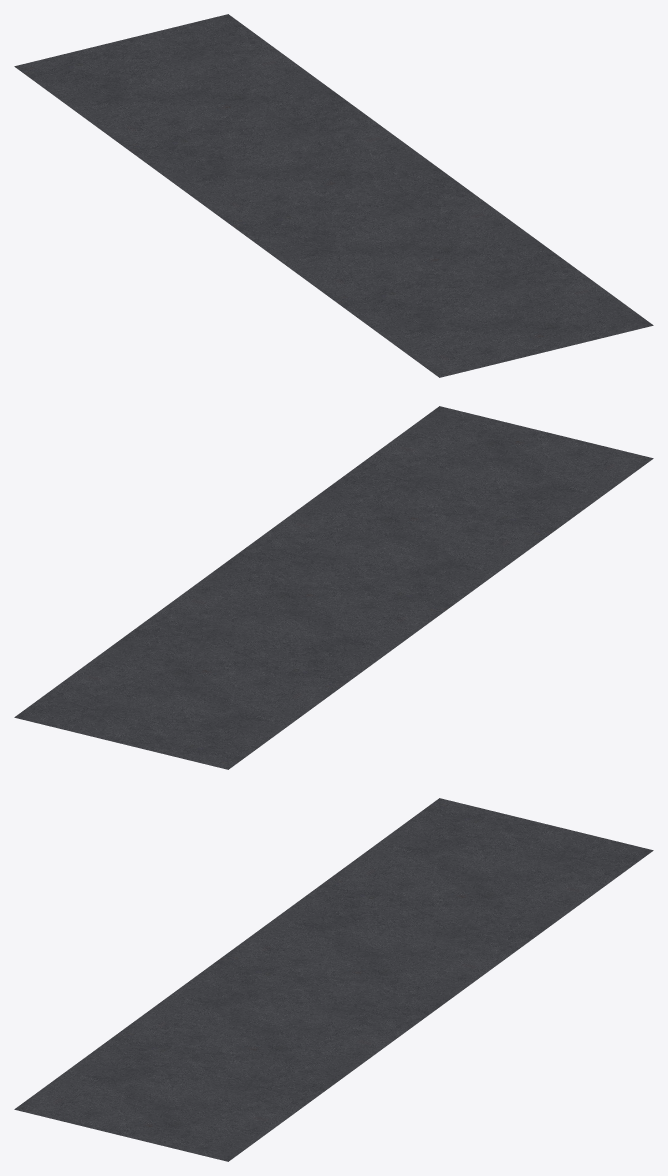
File: approach.glb
The picture shows the model from 3 angles, top to bottom: view 1: azimuth 30°, elevation 25°; view 2: azimuth 150°, elevation 25°; view 3: azimuth 330°, elevation 25°; orthographic projection.
Parts seen in each view (by area): view 1: road.072; view 2: road.072; view 3: road.072.
Part boxes in pixels (x1,y1,x2,y2): road.072: [14, 14, 653, 377]; road.072: [14, 406, 653, 769]; road.072: [14, 798, 653, 1161].
Bounding box in the file's own units: 3.2 × 0 × 11.
1 material, 1 textured.
